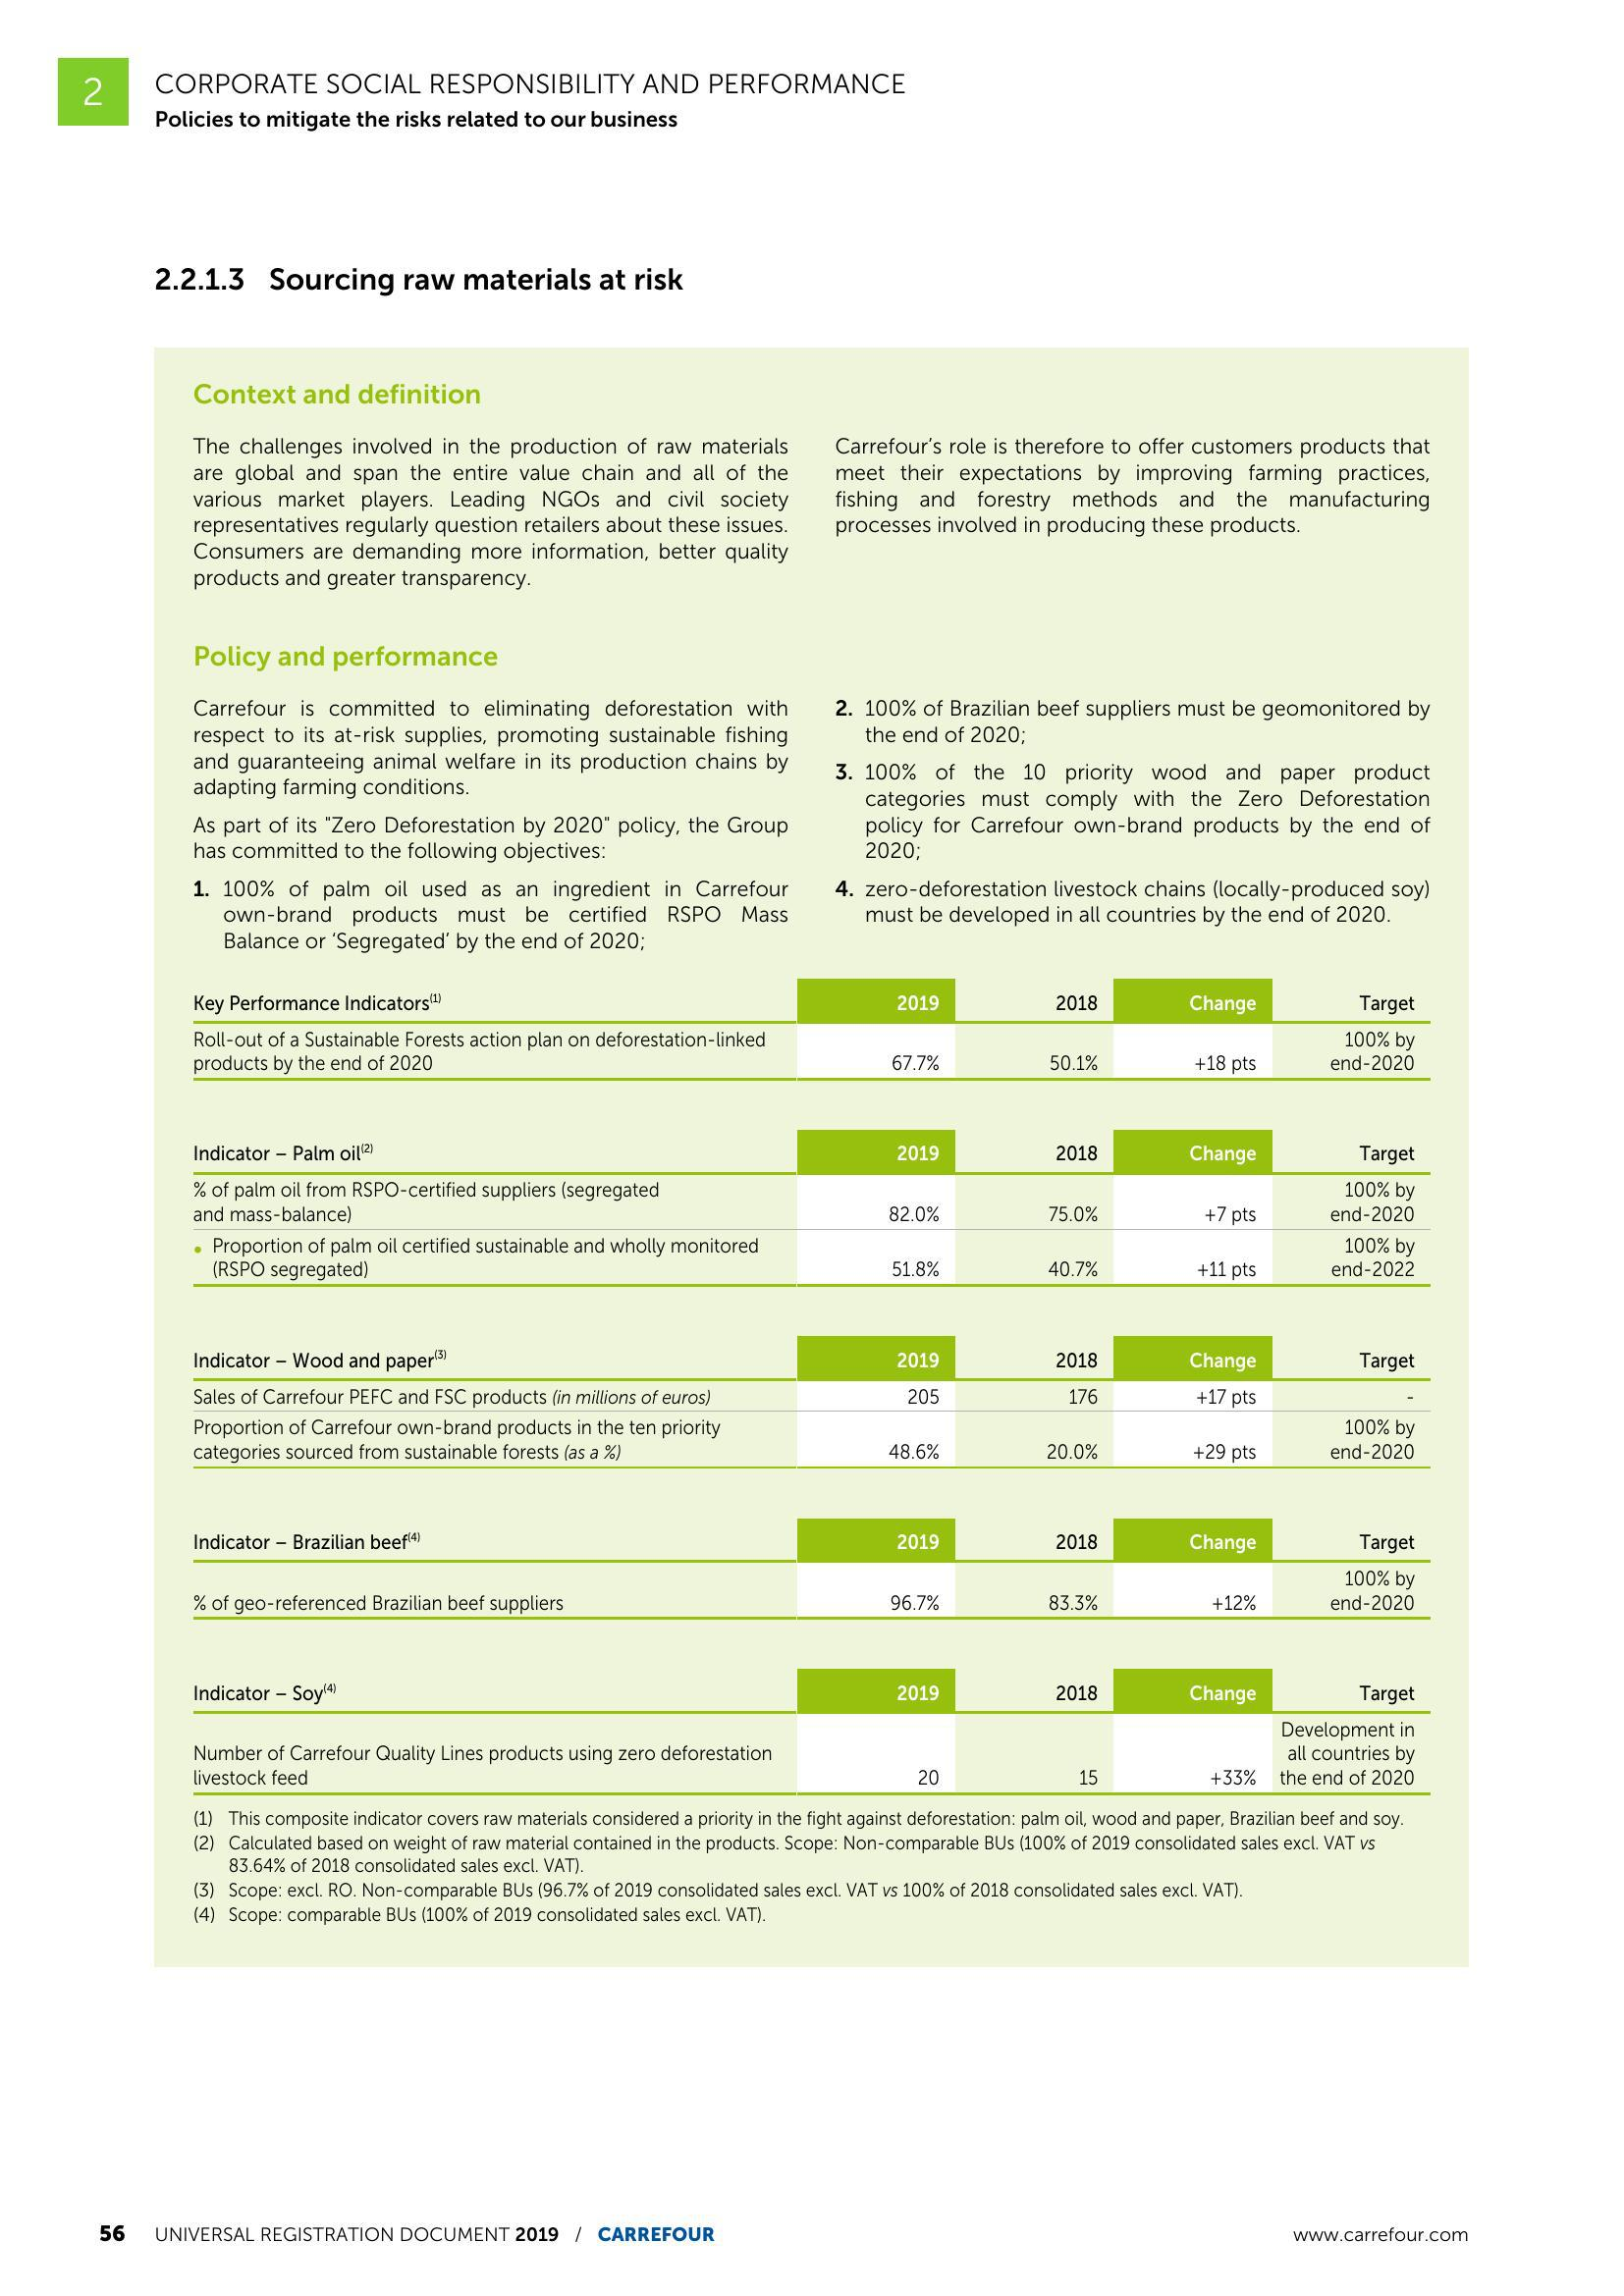cell: (185, 1715, 798, 1790), (185, 1411, 798, 1469), (185, 1560, 798, 1618), (188, 1173, 796, 1231), (185, 1330, 798, 1381), (185, 1618, 798, 1667), (185, 1667, 798, 1715), (188, 1126, 796, 1173), (185, 1469, 798, 1514), (185, 1514, 798, 1560), (185, 1381, 798, 1411), (1111, 1715, 1274, 1790), (798, 1715, 956, 1790), (1274, 1715, 1431, 1790), (956, 1715, 1111, 1790), (1111, 1411, 1274, 1469), (1111, 1560, 1274, 1618), (798, 1411, 956, 1469), (798, 1560, 956, 1618), (1274, 1411, 1431, 1469), (1274, 1560, 1431, 1618), (956, 1411, 1111, 1469), (956, 1560, 1111, 1618), (1111, 1330, 1274, 1381), (798, 1330, 956, 1381), (1111, 1618, 1274, 1667), (1274, 1330, 1431, 1381), (956, 1330, 1111, 1381), (798, 1618, 956, 1667), (1111, 1667, 1274, 1715), (1274, 1618, 1431, 1667), (1111, 1126, 1272, 1173), (956, 1618, 1111, 1667), (796, 1126, 956, 1173), (798, 1667, 956, 1715), (1272, 1126, 1431, 1173), (1111, 1469, 1274, 1514), (1111, 1514, 1274, 1560), (1274, 1667, 1431, 1715), (956, 1667, 1111, 1715), (956, 1126, 1111, 1173), (798, 1469, 956, 1514), (798, 1514, 956, 1560), (1274, 1469, 1431, 1514), (1274, 1514, 1431, 1560), (956, 1469, 1111, 1514), (956, 1514, 1111, 1560), (1111, 1381, 1274, 1411), (798, 1381, 956, 1411), (1274, 1381, 1431, 1411), (956, 1381, 1111, 1411)
table: (185, 1330, 1431, 1790), (188, 1126, 1431, 1284)
